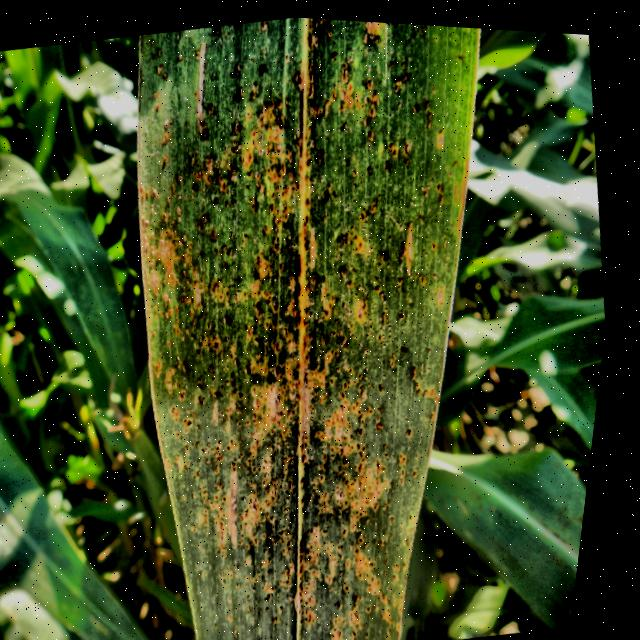common_rust: (49, 7, 545, 640)
